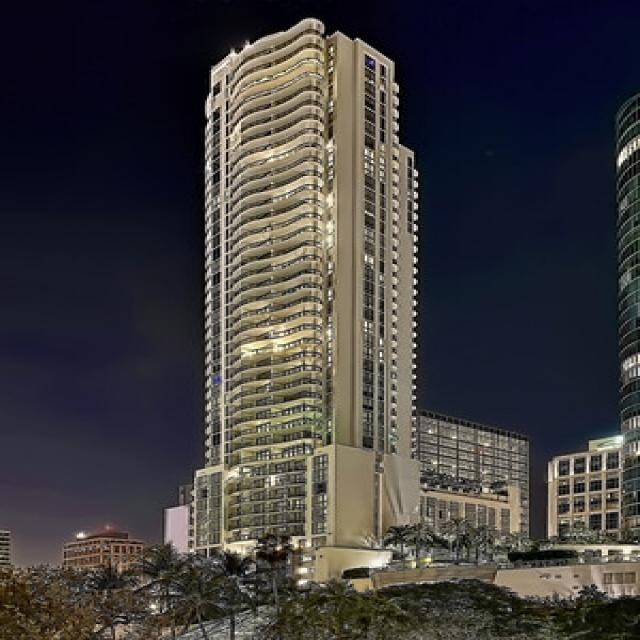Normal_building: (174, 14, 428, 583)
